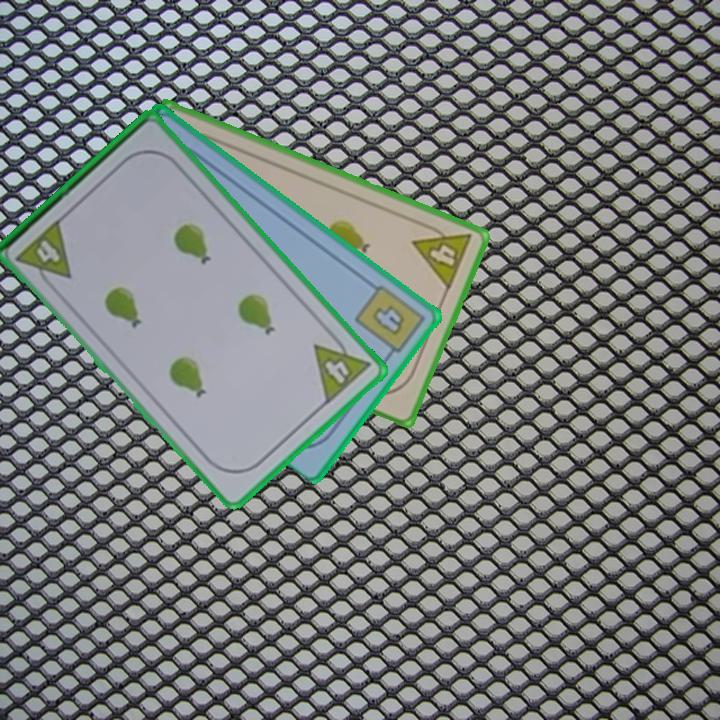4b: (351, 281, 428, 363)
4p: (310, 327, 374, 408), (409, 217, 476, 293), (12, 215, 75, 294)
